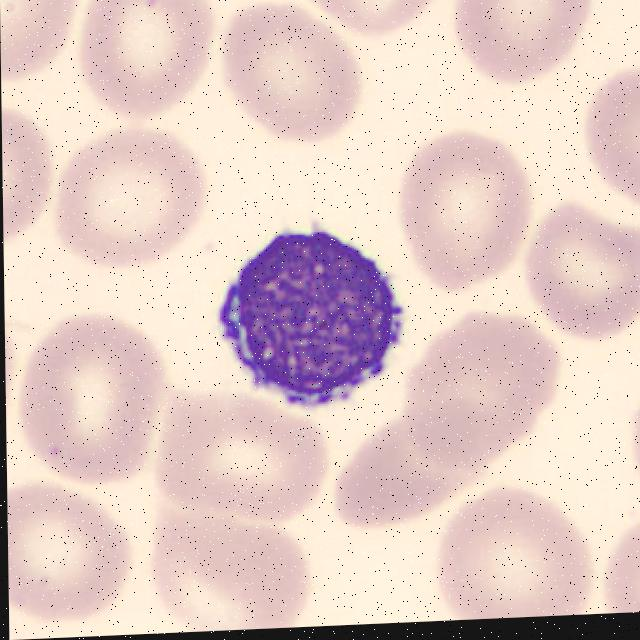lymphocyte: (204, 217, 402, 425)
rbc: (11, 307, 173, 489), (415, 309, 556, 483), (156, 389, 328, 531), (218, 1, 366, 150), (405, 130, 539, 290), (61, 123, 209, 264), (442, 492, 591, 621), (154, 516, 312, 634), (68, 0, 210, 117), (339, 420, 487, 532), (8, 494, 131, 616), (537, 205, 640, 344), (453, 0, 595, 82), (2, 99, 60, 238), (591, 70, 640, 211), (0, 0, 84, 78), (290, 0, 440, 33), (605, 521, 640, 613), (5, 312, 25, 432), (624, 385, 640, 503), (591, 0, 640, 11)
